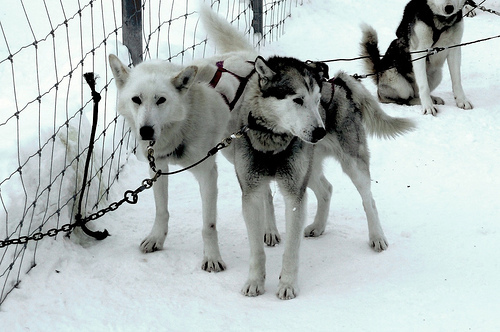dog: (221, 57, 420, 301), (107, 1, 282, 274), (359, 0, 476, 115)
